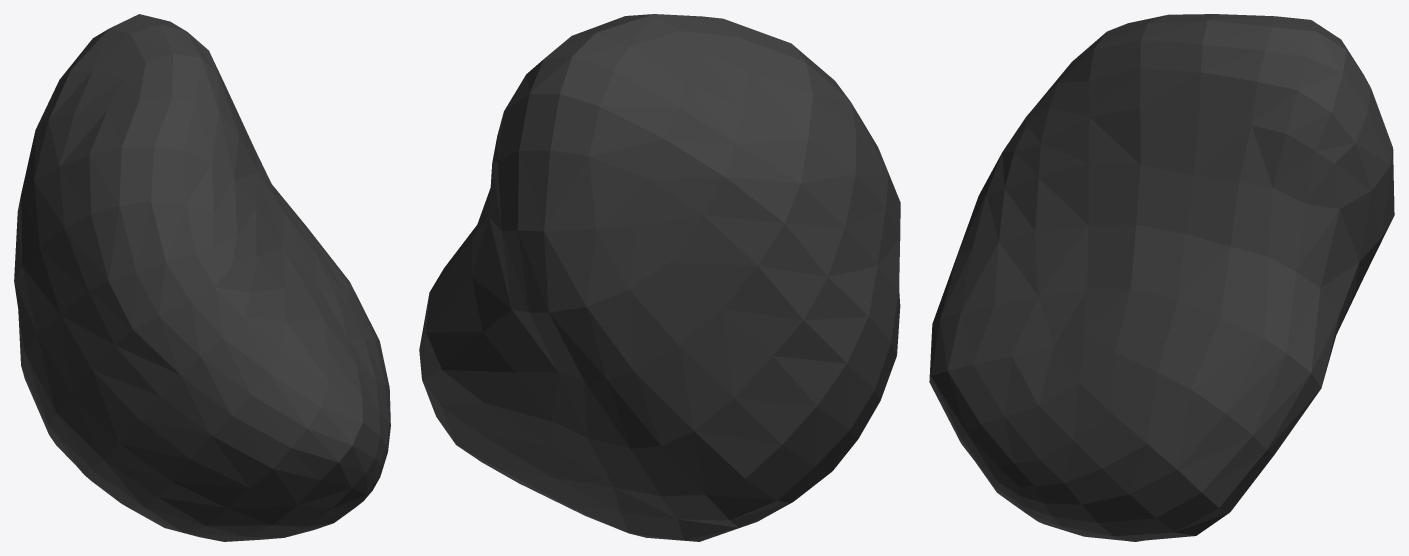
Rendered from Sesamoid_adductor.glb.
The picture shows the model from 3 angles, left to right: view 1: azimuth 30°, elevation 25°; view 2: azimuth 150°, elevation 25°; view 3: azimuth 270°, elevation 25°; orthographic projection. The views are drawn at different scales.
Visible parts, largest first — view 1: Sesamoid_adductor; view 2: Sesamoid_adductor; view 3: Sesamoid_adductor.
Boxes of the visible parts, <box> form: Sesamoid_adductor: <box>14,14,390,541</box>; Sesamoid_adductor: <box>419,14,900,541</box>; Sesamoid_adductor: <box>929,14,1394,541</box>.
Size of the model in its own units: 0.032 by 0.0408 by 0.0354.
Materials: 1 (1 with a texture image).
